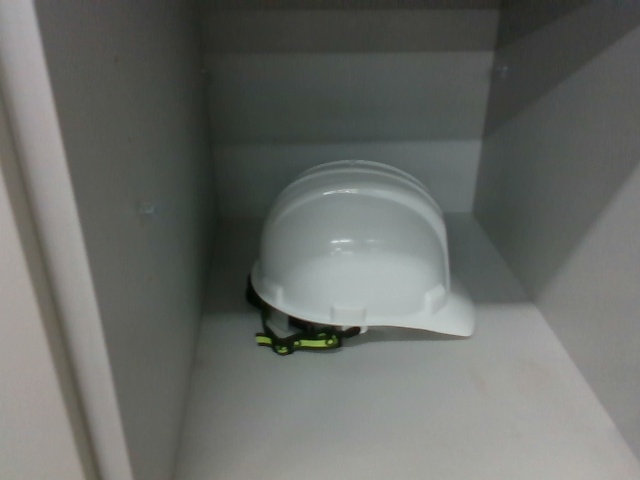helmet: (247, 155, 481, 366)
